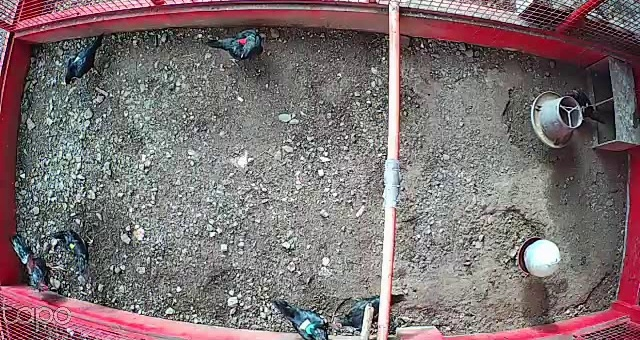Chicken: (331, 283, 411, 332), (264, 289, 333, 340), (59, 32, 112, 88), (45, 225, 98, 273), (207, 30, 271, 69), (565, 84, 609, 130)
Rooster: (8, 230, 60, 295)
Saddle_Color_Red: (237, 39, 245, 45)
Saddle_Color_Yellow: (68, 242, 76, 250)
Saddle_Color_YellowGreen: (301, 319, 312, 333)
